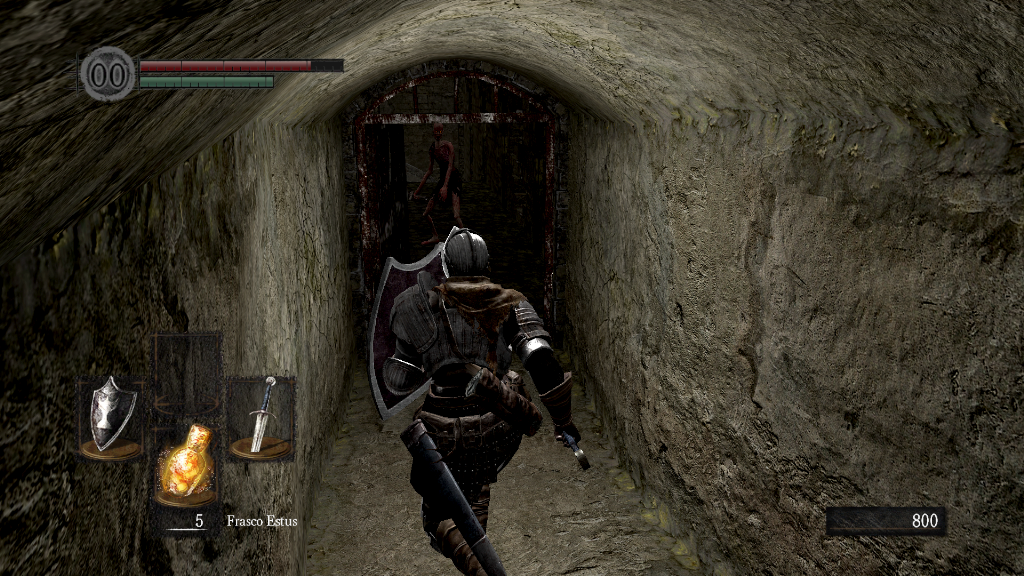health: (138, 58, 343, 71)
hollow: (406, 123, 465, 244)
humanity: (80, 45, 136, 102)
player: (367, 225, 591, 576)
souls: (825, 506, 945, 536)
stamina: (138, 74, 274, 88)
